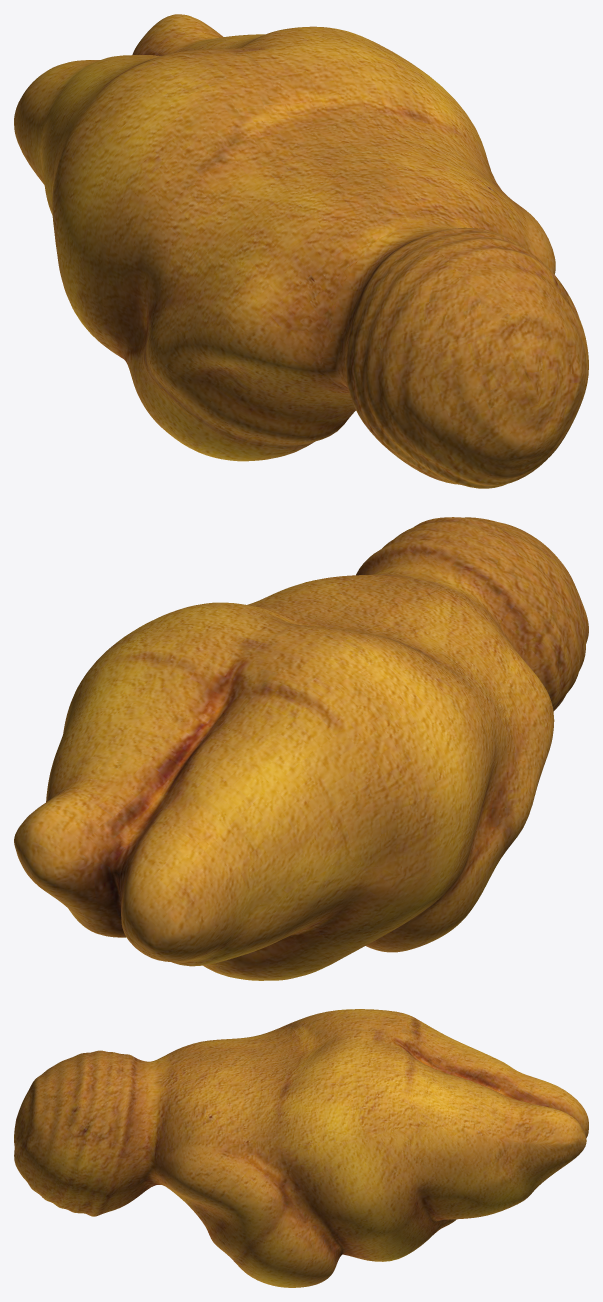
File: statue.obj
The picture shows the model from 3 angles, top to bottom: view 1: azimuth 30°, elevation 25°; view 2: azimuth 150°, elevation 25°; view 3: azimuth 270°, elevation 25°; orthographic projection. The views are drawn at different scales.
Visible parts, largest first — view 1: 12327_Statue_V1; view 2: 12327_Statue_V1; view 3: 12327_Statue_V1.
Boxes of the visible parts, x1,y1,x2,y2 form: 12327_Statue_V1: (14,14,588,488); 12327_Statue_V1: (14,517,588,980); 12327_Statue_V1: (14,1009,588,1287).
Size of the model in its own units: 18.23 by 15.19 by 35.74.
1 material, 1 textured.
